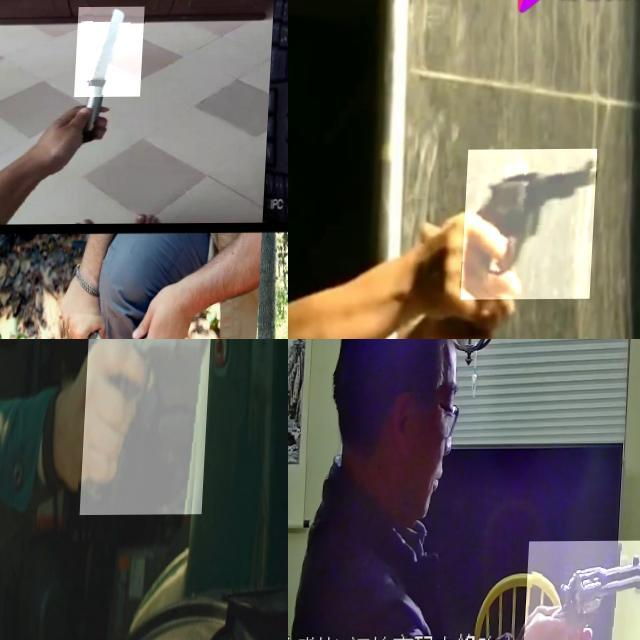-: (76, 7, 146, 97), (61, 314, 136, 339)
gun-knife-thesis - v11 Yolov5 augmented: (83, 339, 216, 515), (464, 150, 600, 300), (529, 541, 640, 640)
